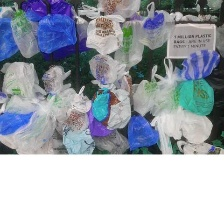plastic_bag: (149, 56, 215, 147), (14, 92, 64, 155), (0, 94, 40, 150), (89, 83, 135, 131), (9, 5, 46, 61), (0, 59, 48, 102), (111, 16, 148, 71), (36, 10, 79, 55), (85, 50, 132, 90), (130, 61, 162, 117), (85, 12, 124, 55), (175, 76, 216, 115), (137, 4, 173, 48), (58, 79, 91, 124), (124, 111, 162, 150), (56, 123, 100, 155), (177, 48, 219, 79), (77, 0, 142, 19), (92, 129, 132, 159), (151, 113, 175, 162), (40, 63, 73, 95), (0, 108, 36, 137), (0, 12, 21, 57), (175, 136, 224, 155)
